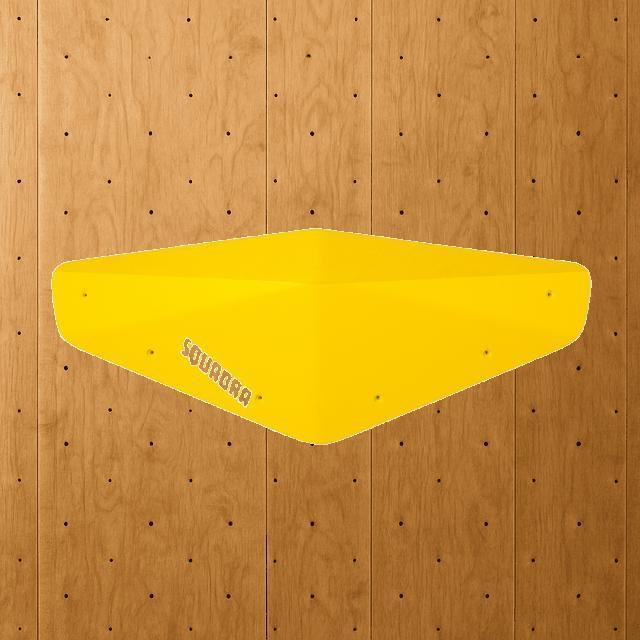Volume: (50, 228, 594, 444)
